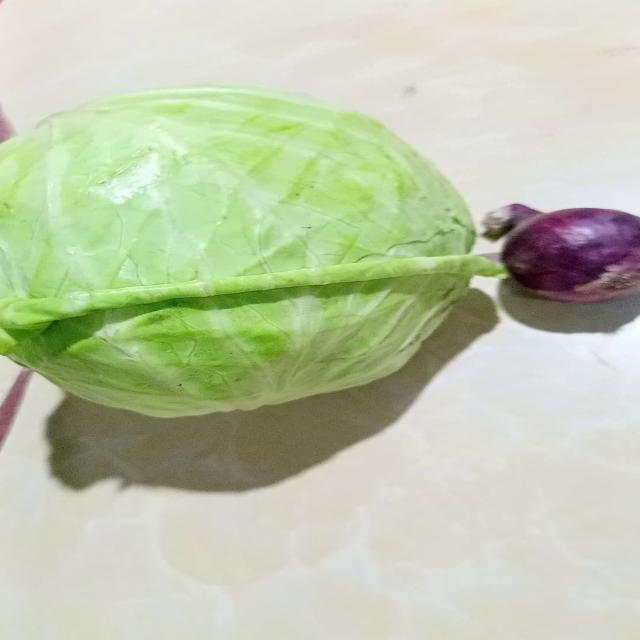cabbage: (0, 86, 497, 421)
onion: (482, 204, 640, 304)
